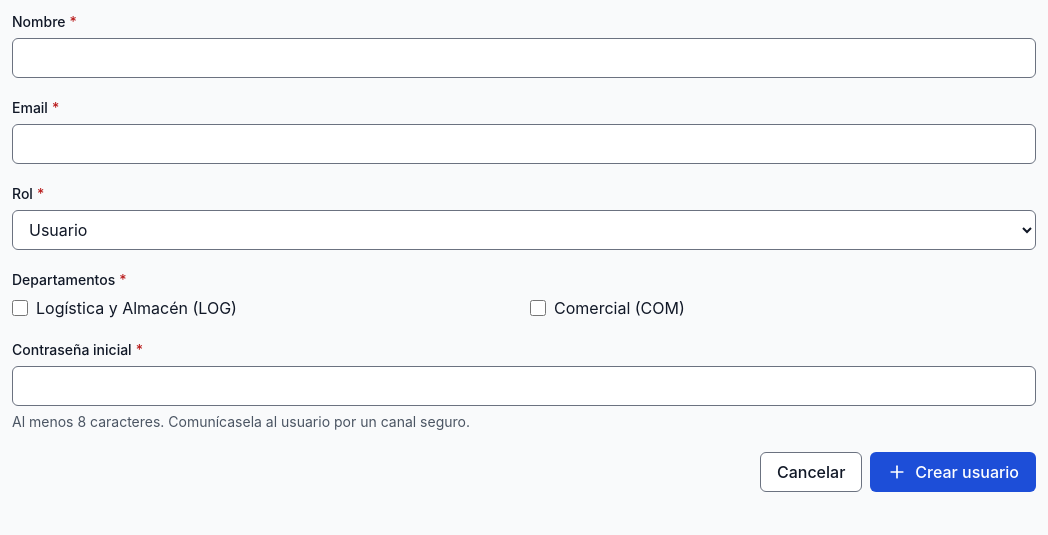
Test case: UserForm · alta › CA-02.19: una contraseña corta da el error de longitud y el foco va a ella
The image size is (1048, 535).
Type "Marta Gil" into the field labelled "Nombre*".
click(524, 58); type("Marta Gil")  # box [12,38,1036,78]
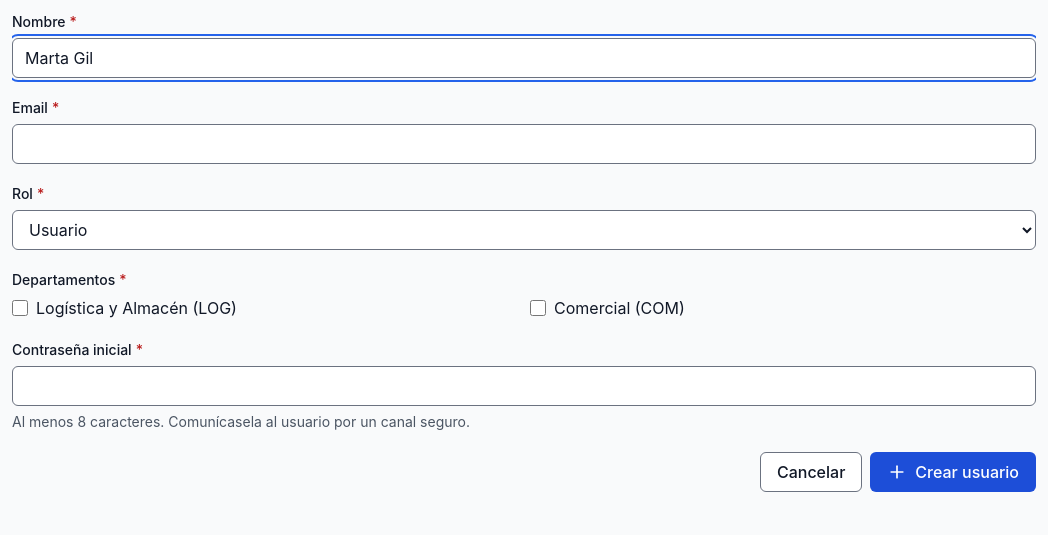
Type "marta.gil@incidapp.test" into the field labelled "Email*".
click(524, 144); type("marta.gil@incidapp.test")  # box [12,124,1036,164]
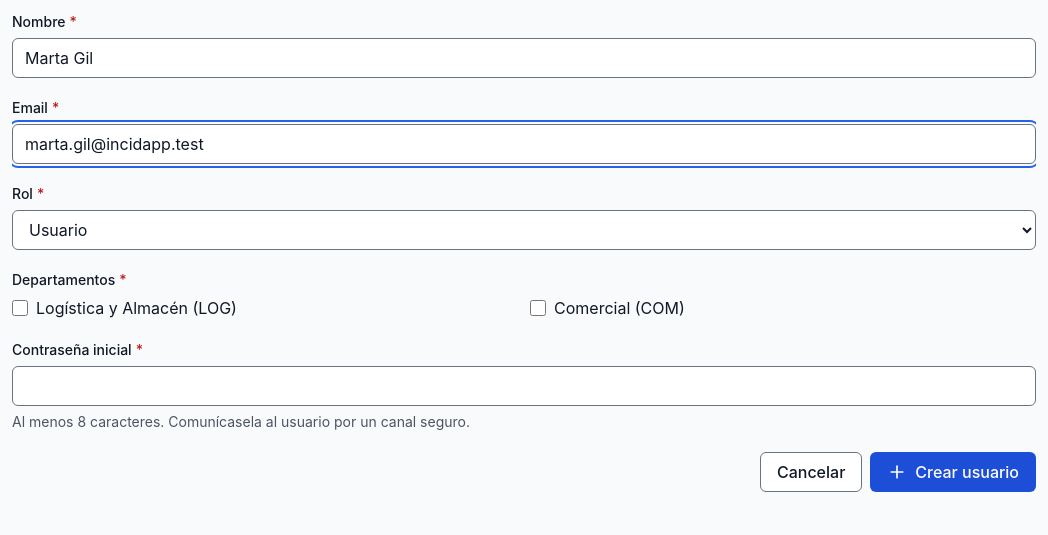
Click the checkbox labelled "Logística y Almacén (LOG)".
click(20, 308)  # box [12,300,28,316]
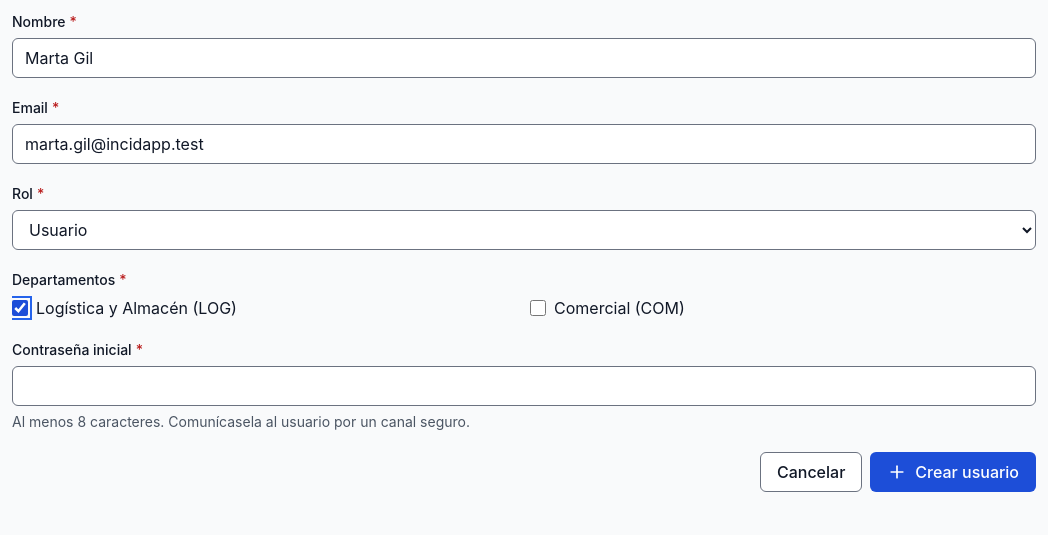
Type "corta" into the password field labelled "Contraseña inicial*".
click(524, 386); type("corta")  # box [12,366,1036,406]
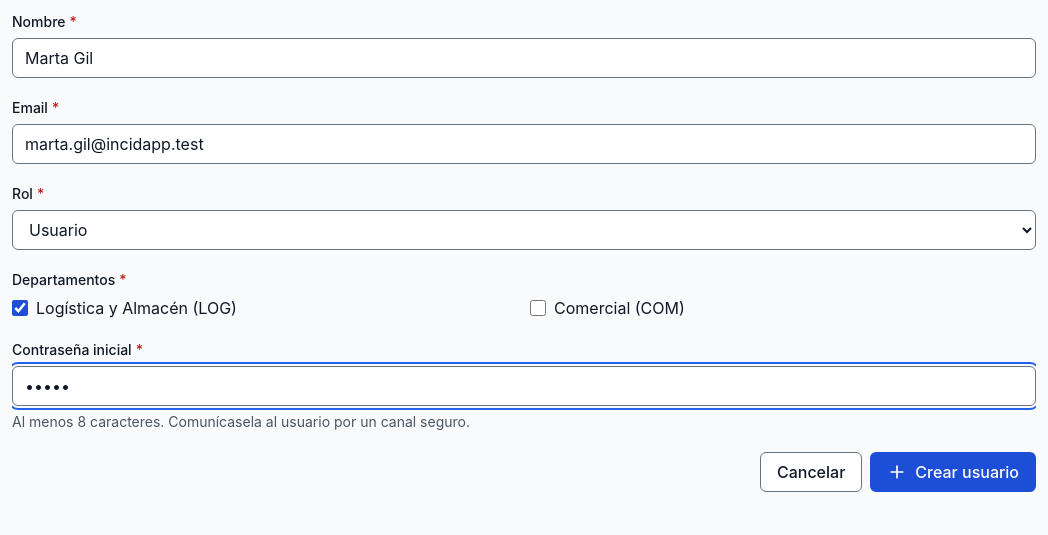
Click the button "Crear usuario".
click(953, 472)  # box [870,452,1036,492]
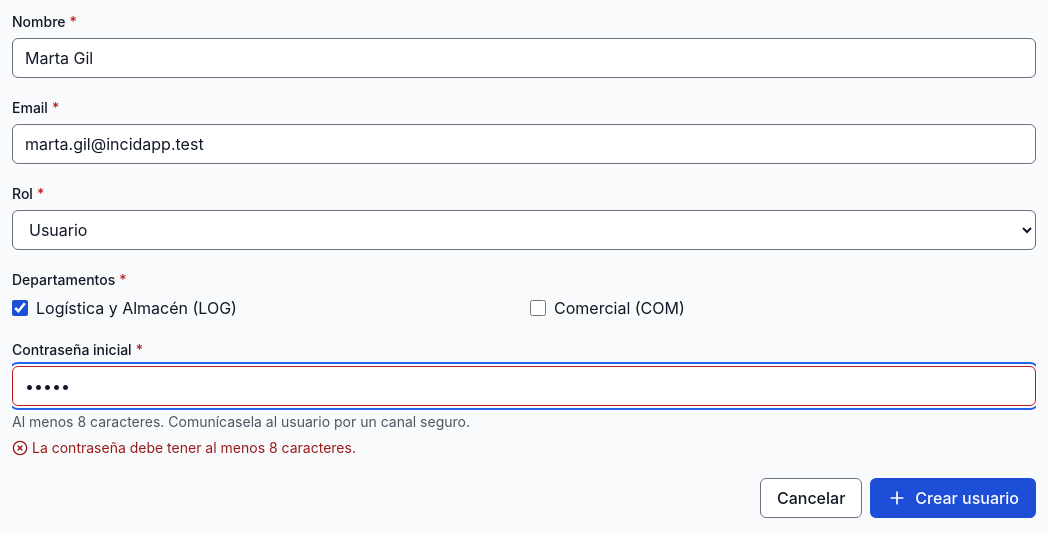
Result: the text "La contraseña debe tener al menos 8 caracteres." is shown at [32,438,356,458]
